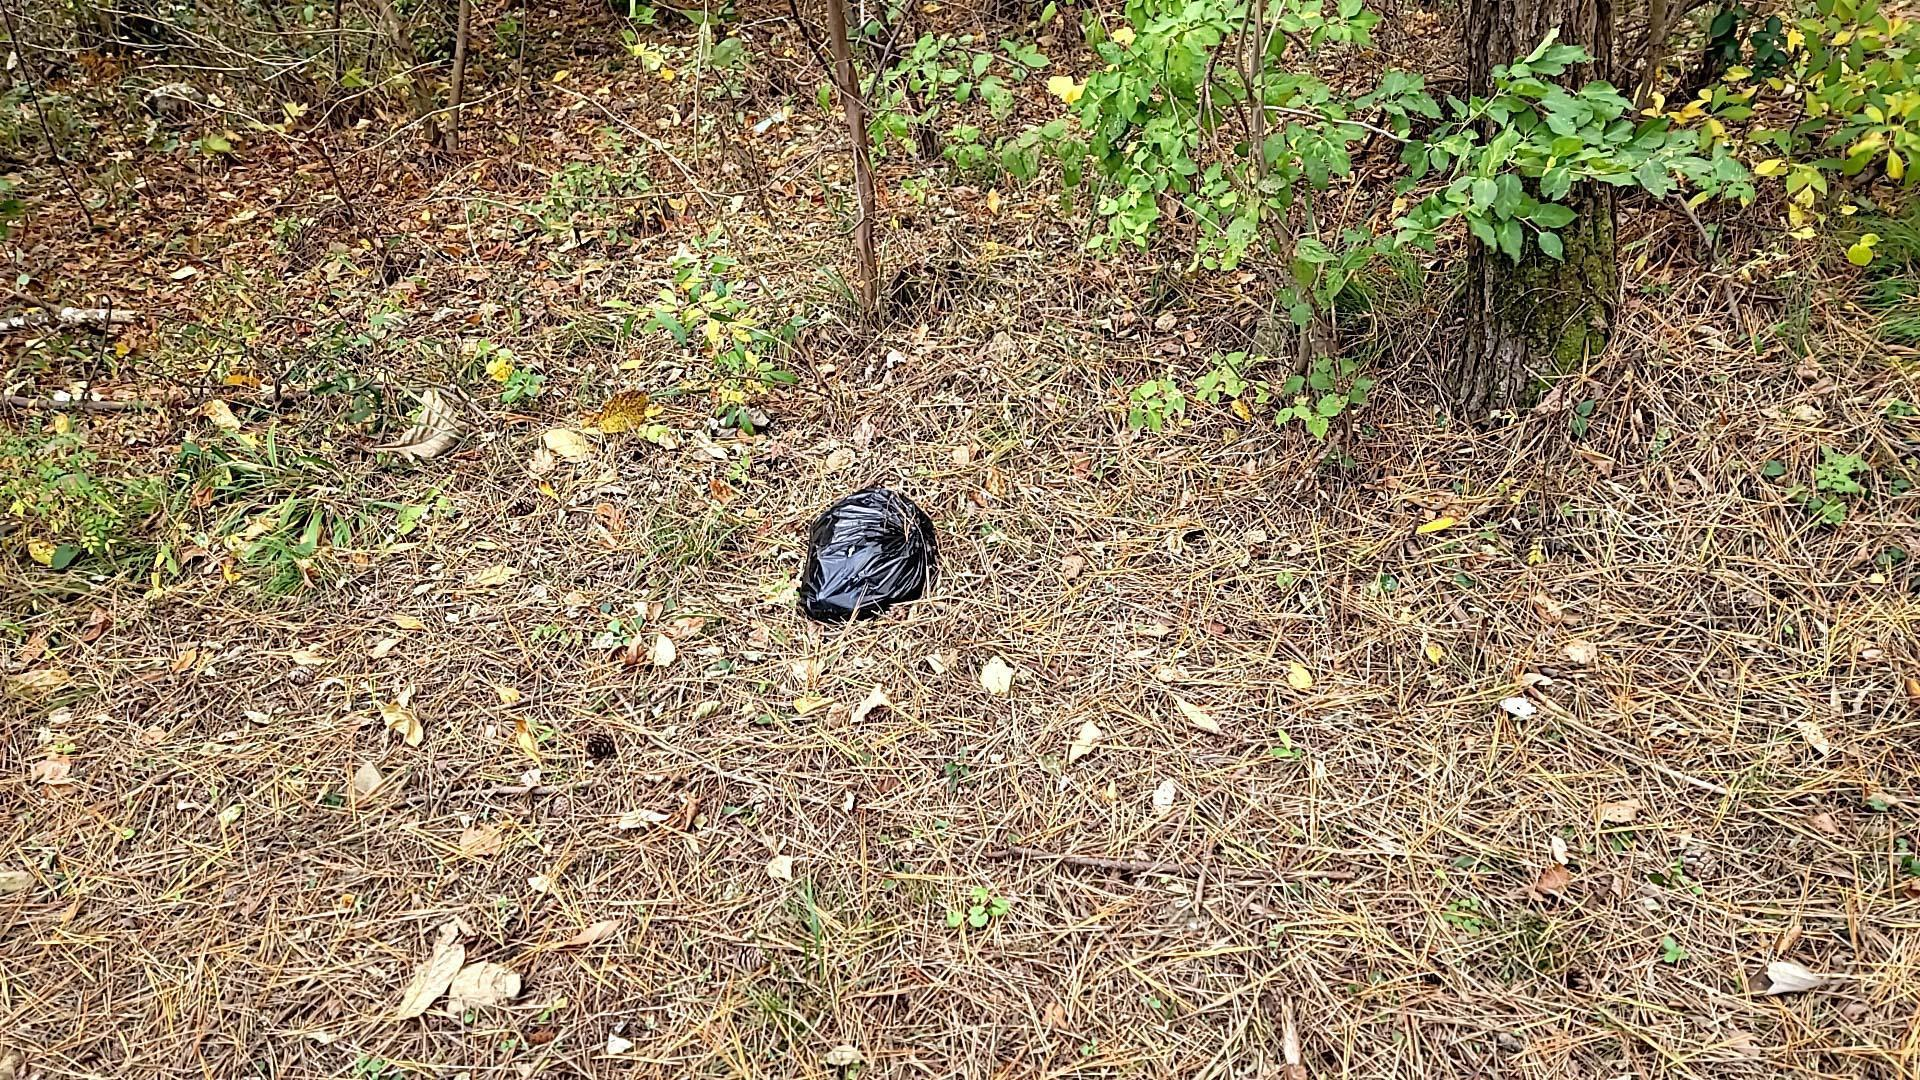black_bag: (791, 479, 945, 630)
